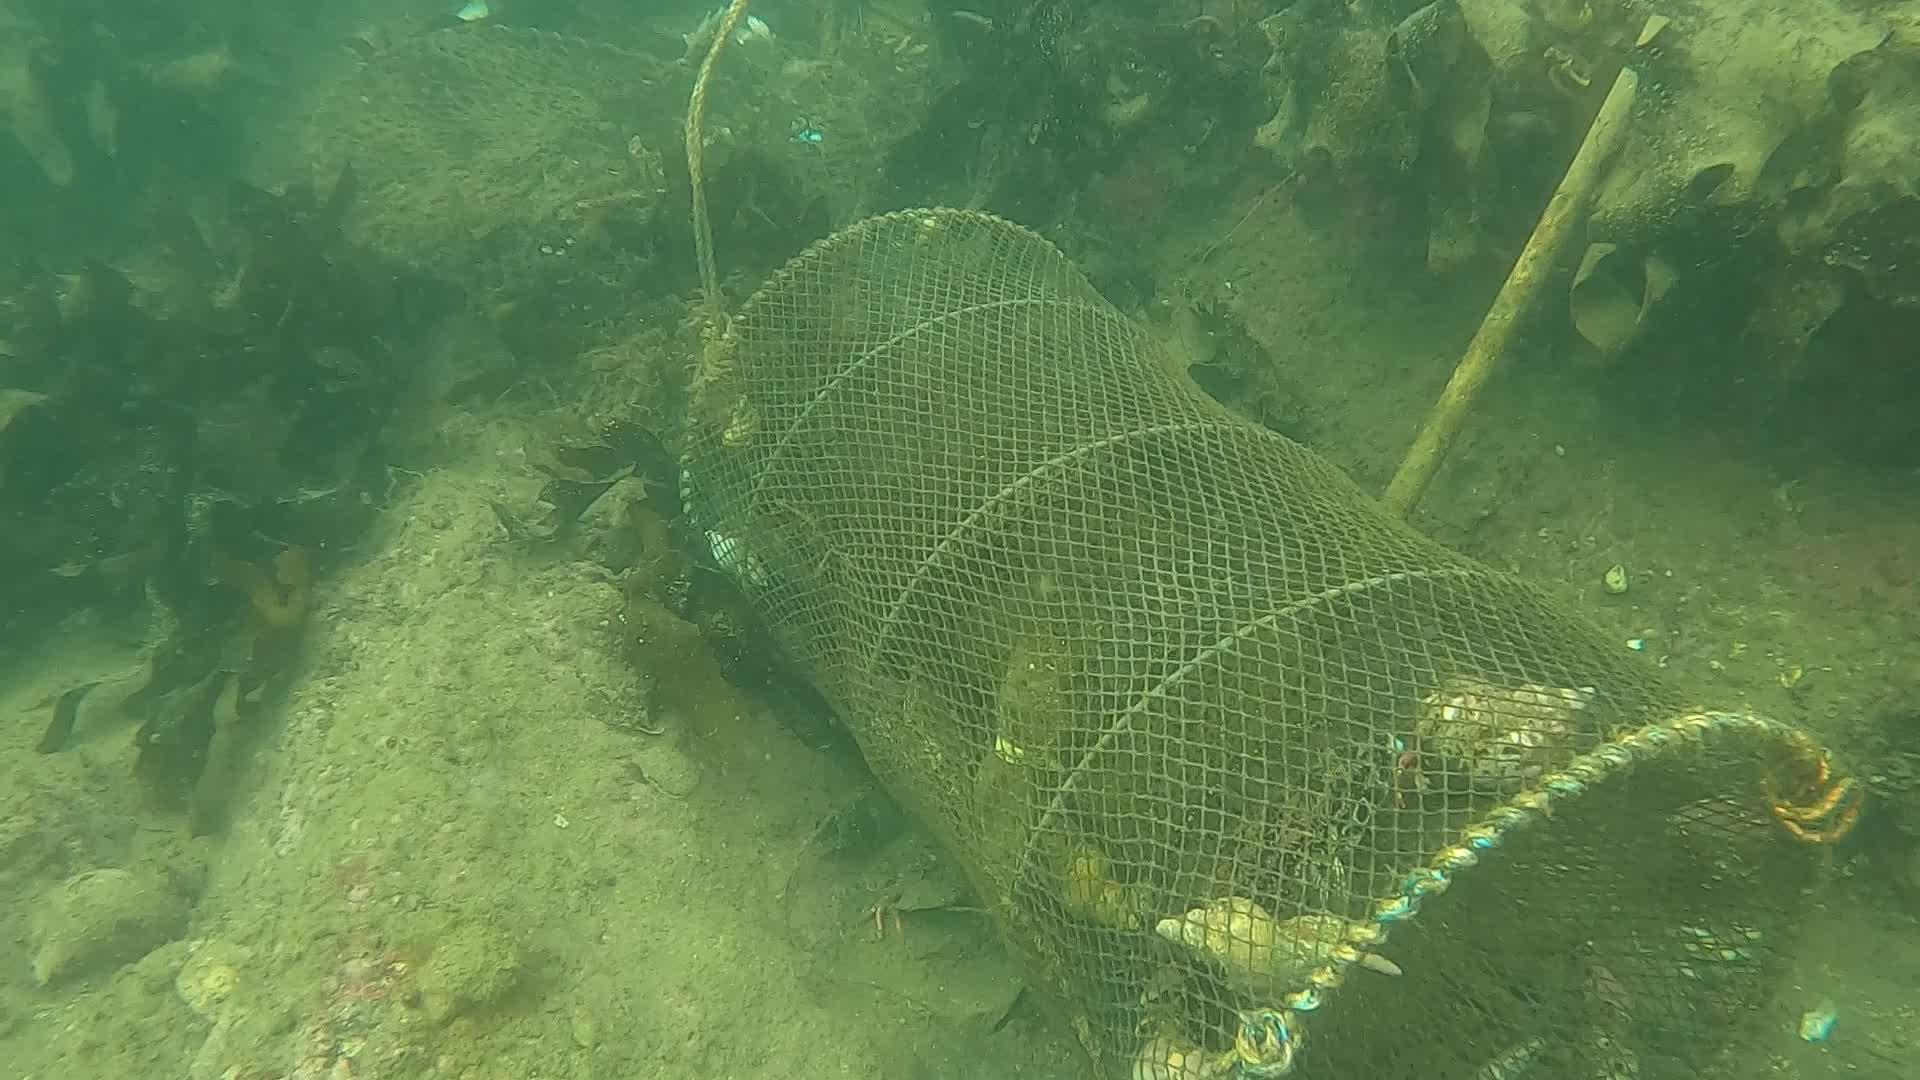bundle of ropes: (680, 0, 752, 342)
spring fish trap: (670, 200, 1844, 1080)
